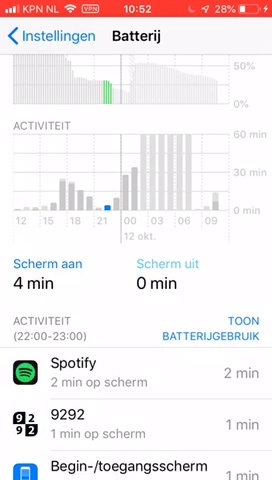activity: (10, 313, 98, 345)
app: (6, 353, 265, 392), (8, 403, 267, 442)
